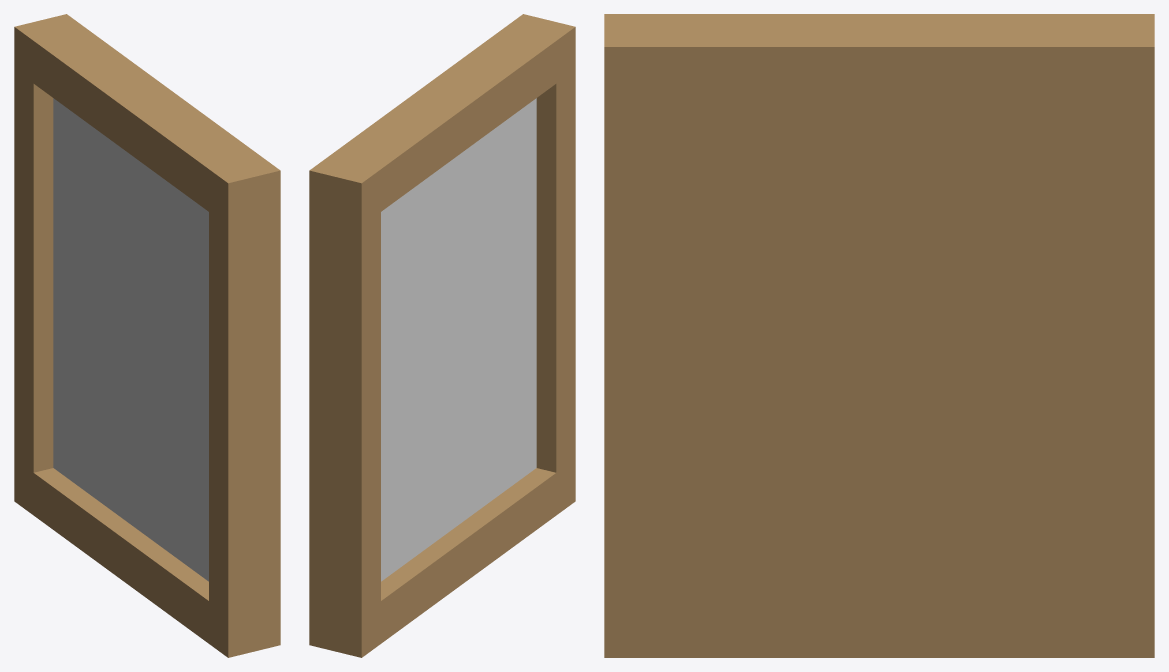
The model's file is Picture Frame 5.fbx.
The picture shows the model from 3 angles, left to right: view 1: azimuth 30°, elevation 25°; view 2: azimuth 150°, elevation 25°; view 3: azimuth 270°, elevation 25°; orthographic projection. The views are drawn at different scales.
Visible parts, largest first — view 1: Picture Frame 3; view 2: Picture Frame 3; view 3: Picture Frame 3.
Boxes of the visible parts, <box> form: Picture Frame 3: <box>14,14,280,657</box>; Picture Frame 3: <box>309,14,575,657</box>; Picture Frame 3: <box>604,14,1154,657</box>.
Bounding box in the file's own units: 0.161 × 1.14 × 1.39.
